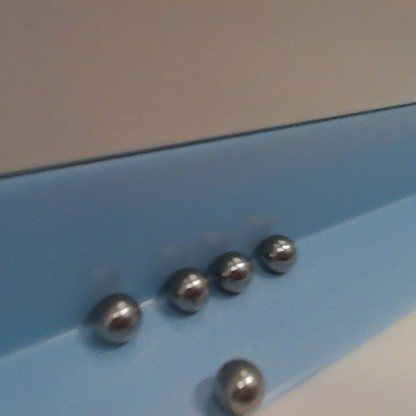ironball: (202, 357, 277, 413), (89, 290, 143, 349), (157, 262, 212, 317), (213, 249, 262, 296), (256, 233, 294, 274)
